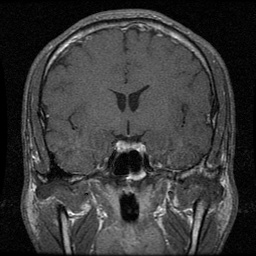pituitary: (115, 139, 146, 153)
